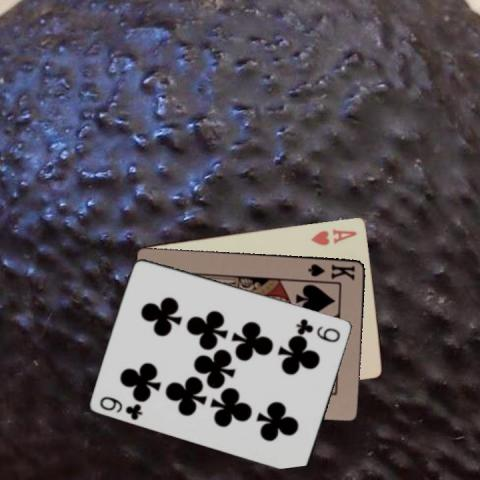9c: (293, 315, 342, 343), (96, 392, 144, 420)
Ah: (308, 225, 359, 246)
Ks: (305, 260, 357, 281)
